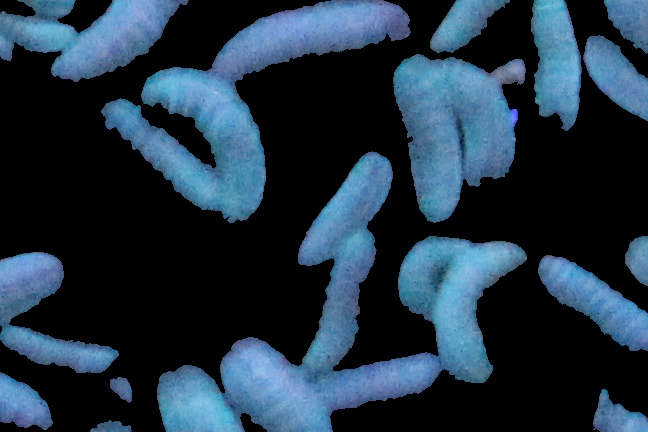larvae: (123, 48, 274, 217), (422, 220, 533, 400), (207, 1, 422, 90), (91, 89, 230, 221), (430, 44, 530, 215), (41, 1, 210, 90), (378, 53, 481, 199), (294, 141, 394, 276), (213, 327, 318, 432), (541, 254, 648, 349), (1, 246, 73, 384), (522, 1, 589, 146), (419, 1, 551, 67), (146, 345, 227, 432), (312, 356, 442, 408), (391, 227, 463, 320), (310, 253, 370, 363), (1, 321, 117, 374), (581, 32, 648, 120)
